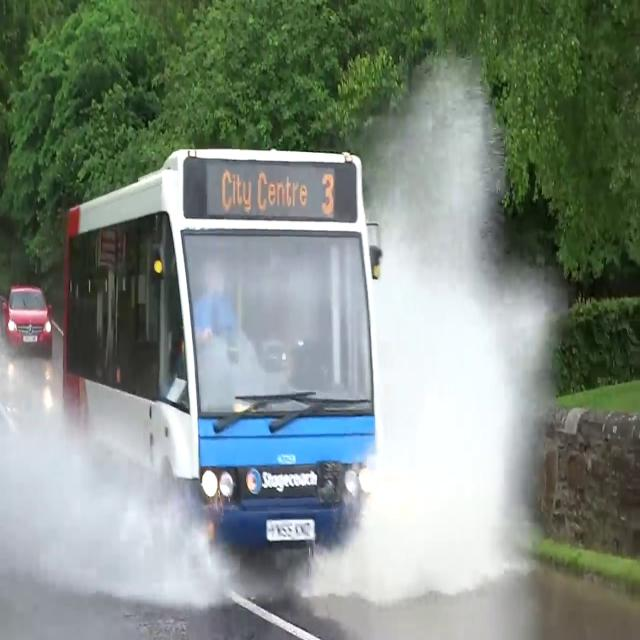license-plate-annotation: (262, 516, 317, 544)
